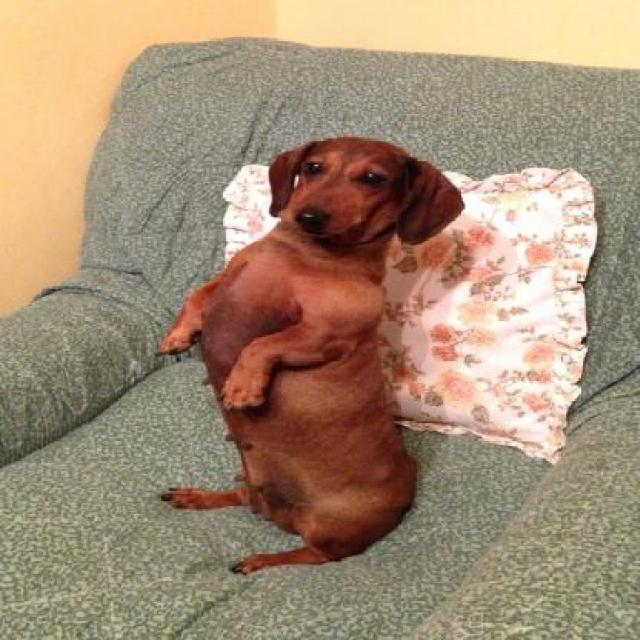Dog: (153, 134, 470, 577)
